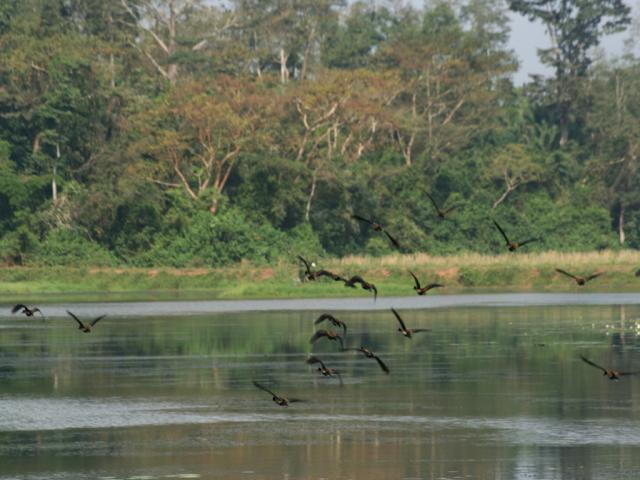Bird: (247, 373, 319, 412), (488, 216, 543, 254), (347, 218, 403, 251), (339, 342, 391, 376), (578, 355, 640, 383), (295, 255, 349, 284), (423, 183, 470, 216), (338, 268, 382, 300), (302, 354, 344, 387), (394, 306, 431, 340), (406, 266, 447, 296), (552, 266, 610, 287), (66, 310, 105, 335), (10, 294, 46, 321), (302, 327, 348, 344)
